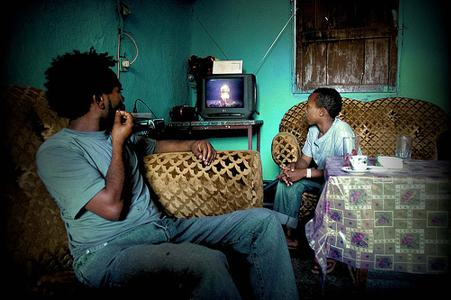person: (36, 49, 300, 299)
